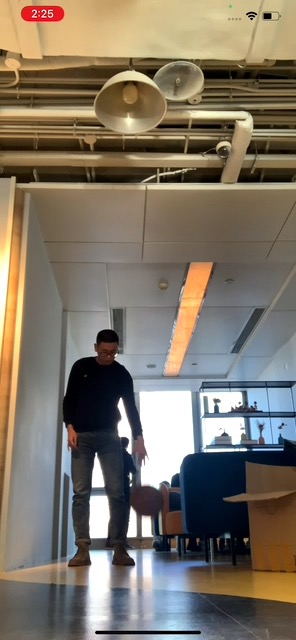ball: (131, 485, 164, 516)
